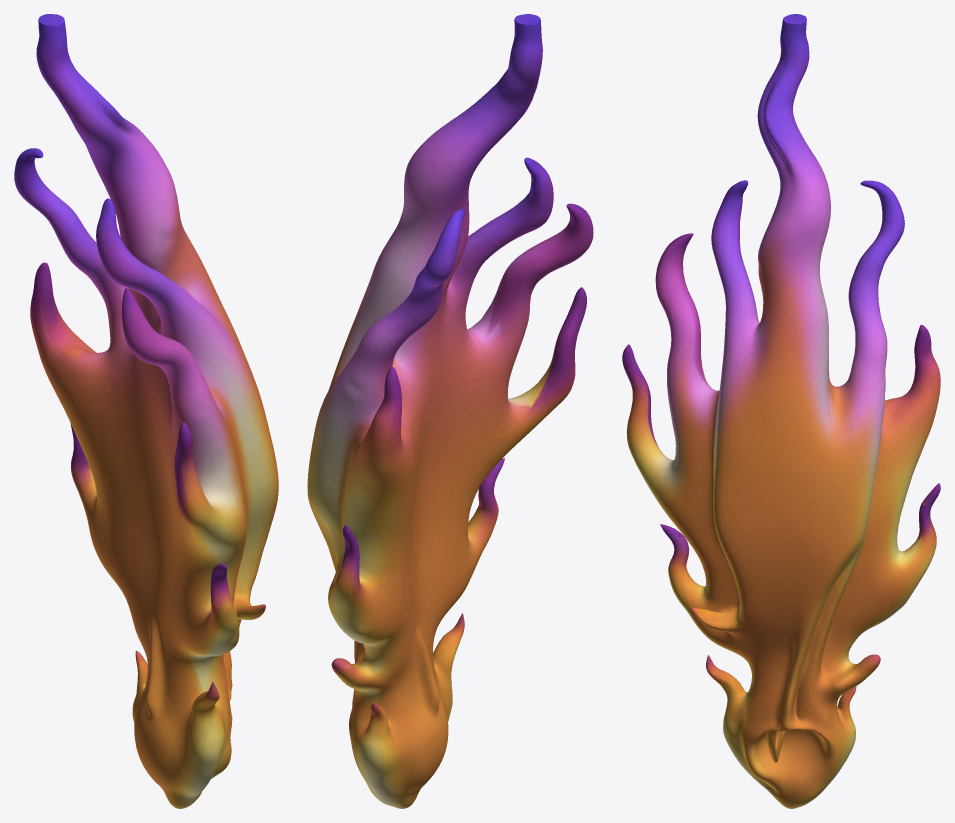
The model's file is fire.glb.
The picture shows the model from 3 angles, left to right: view 1: azimuth 30°, elevation 25°; view 2: azimuth 150°, elevation 25°; view 3: azimuth 270°, elevation 25°; orthographic projection. The views are drawn at different scales.
Size of the model in its own units: 0.2656 by 1 by 0.3936.
1 material, 1 textured.
